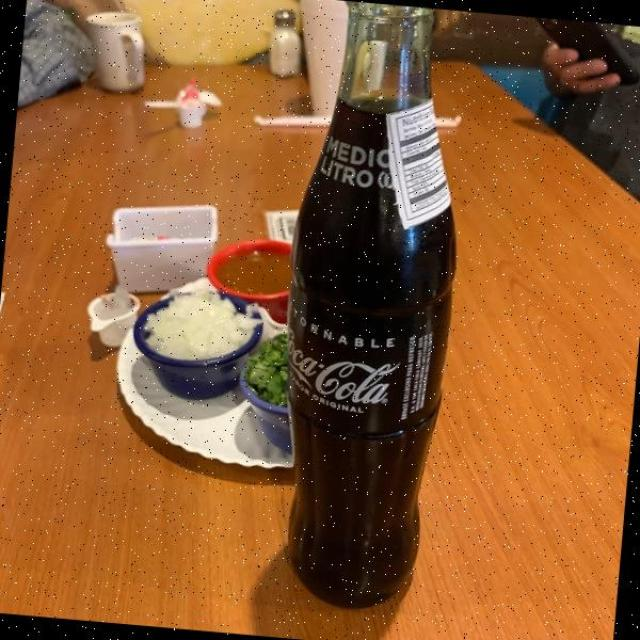coca-cola: (260, 0, 470, 622)
